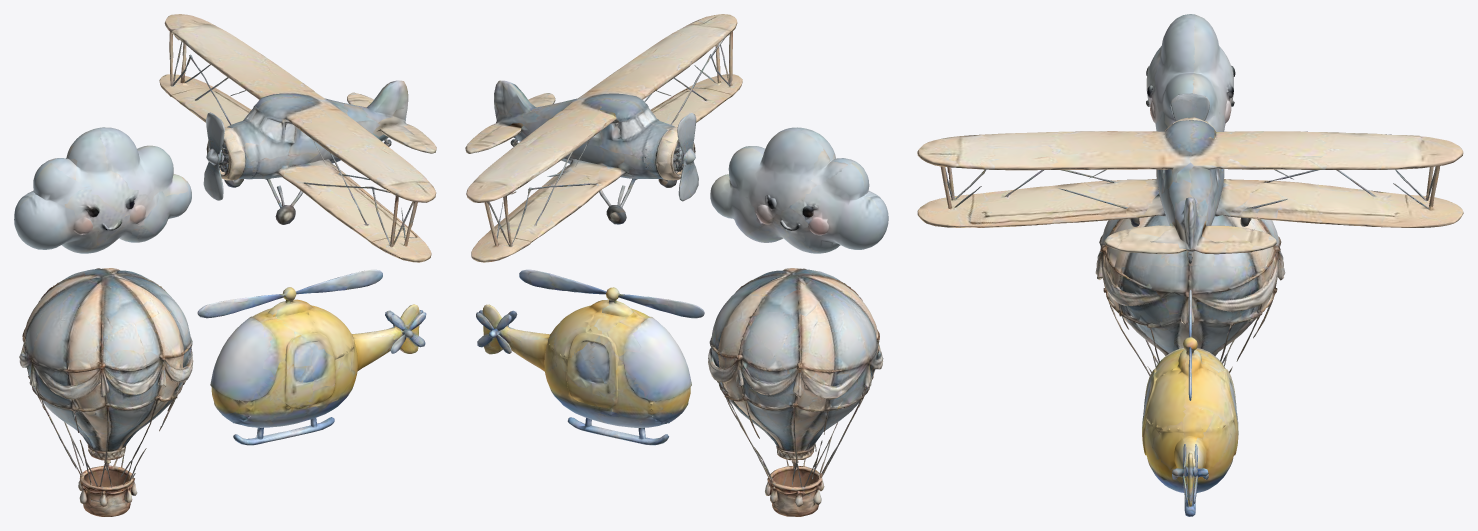
3 views of the same model, side by side, from view 1: azimuth 30°, elevation 25°; view 2: azimuth 150°, elevation 25°; view 3: azimuth 270°, elevation 25° (orthographic). The views are drawn at different scales.
Visible parts, largest first — view 1: Mesh 4, Mesh 2, Mesh 3, Mesh 1; view 2: Mesh 4, Mesh 2, Mesh 3, Mesh 1; view 3: Mesh 4, Mesh 2, Mesh 3, Mesh 1.
Boxes of the visible parts, box(x1,y1,x2,y2) form: Mesh 4: box(159, 14, 436, 262); Mesh 2: box(19, 268, 193, 516); Mesh 3: box(197, 269, 426, 445); Mesh 1: box(14, 127, 191, 253); Mesh 4: box(465, 14, 742, 262); Mesh 2: box(708, 268, 883, 516); Mesh 3: box(476, 269, 704, 445); Mesh 1: box(710, 127, 888, 253); Mesh 4: box(917, 93, 1463, 263); Mesh 2: box(1095, 178, 1285, 375); Mesh 3: box(1142, 290, 1238, 516); Mesh 1: box(1146, 14, 1235, 131).
Size of the model in its own units: 1.77 by 1.57 by 1.9.
Materials: 4 (4 with a texture image).
